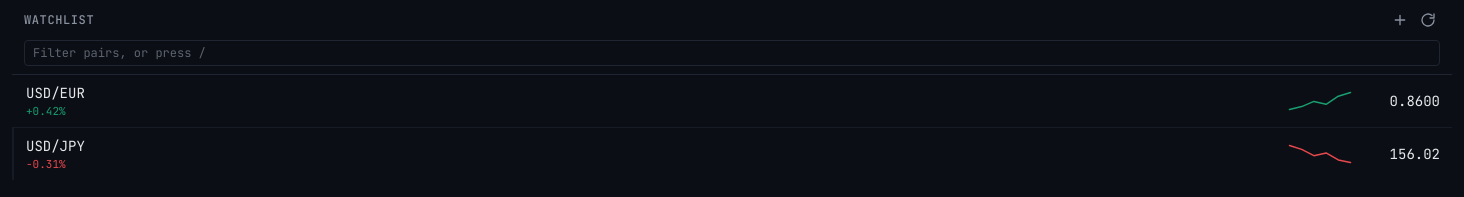
Test: Watchlist › lists only the unwatched pairs when adding
The image size is (1464, 197).
Expected: the button "USD/EUR +0.42% 0.8600" is shown, [14, 75, 1452, 127]
What coordinates should you click on to do the following:
click the button named "Add pairs"
I would click on:
 (1400, 20)
Its box is [1388, 8, 1412, 32].
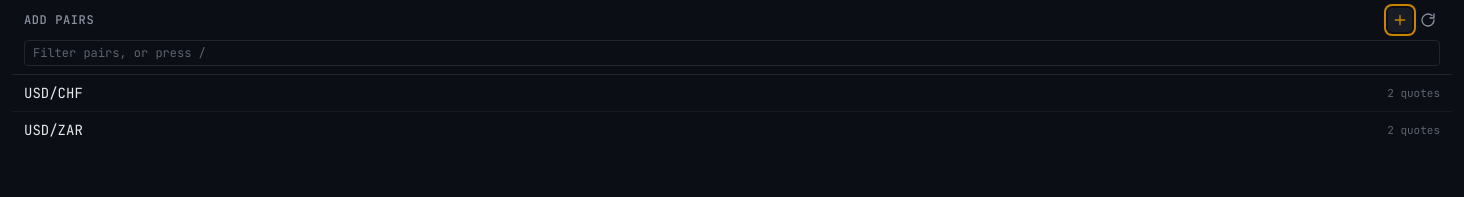
Expected: the button with aria-label "Add USD/CHF to the watchlist" is shown, [12, 75, 1452, 111]
Expected: the button with aria-label "Add USD/ZAR to the watchlist" is shown, [12, 112, 1452, 148]
